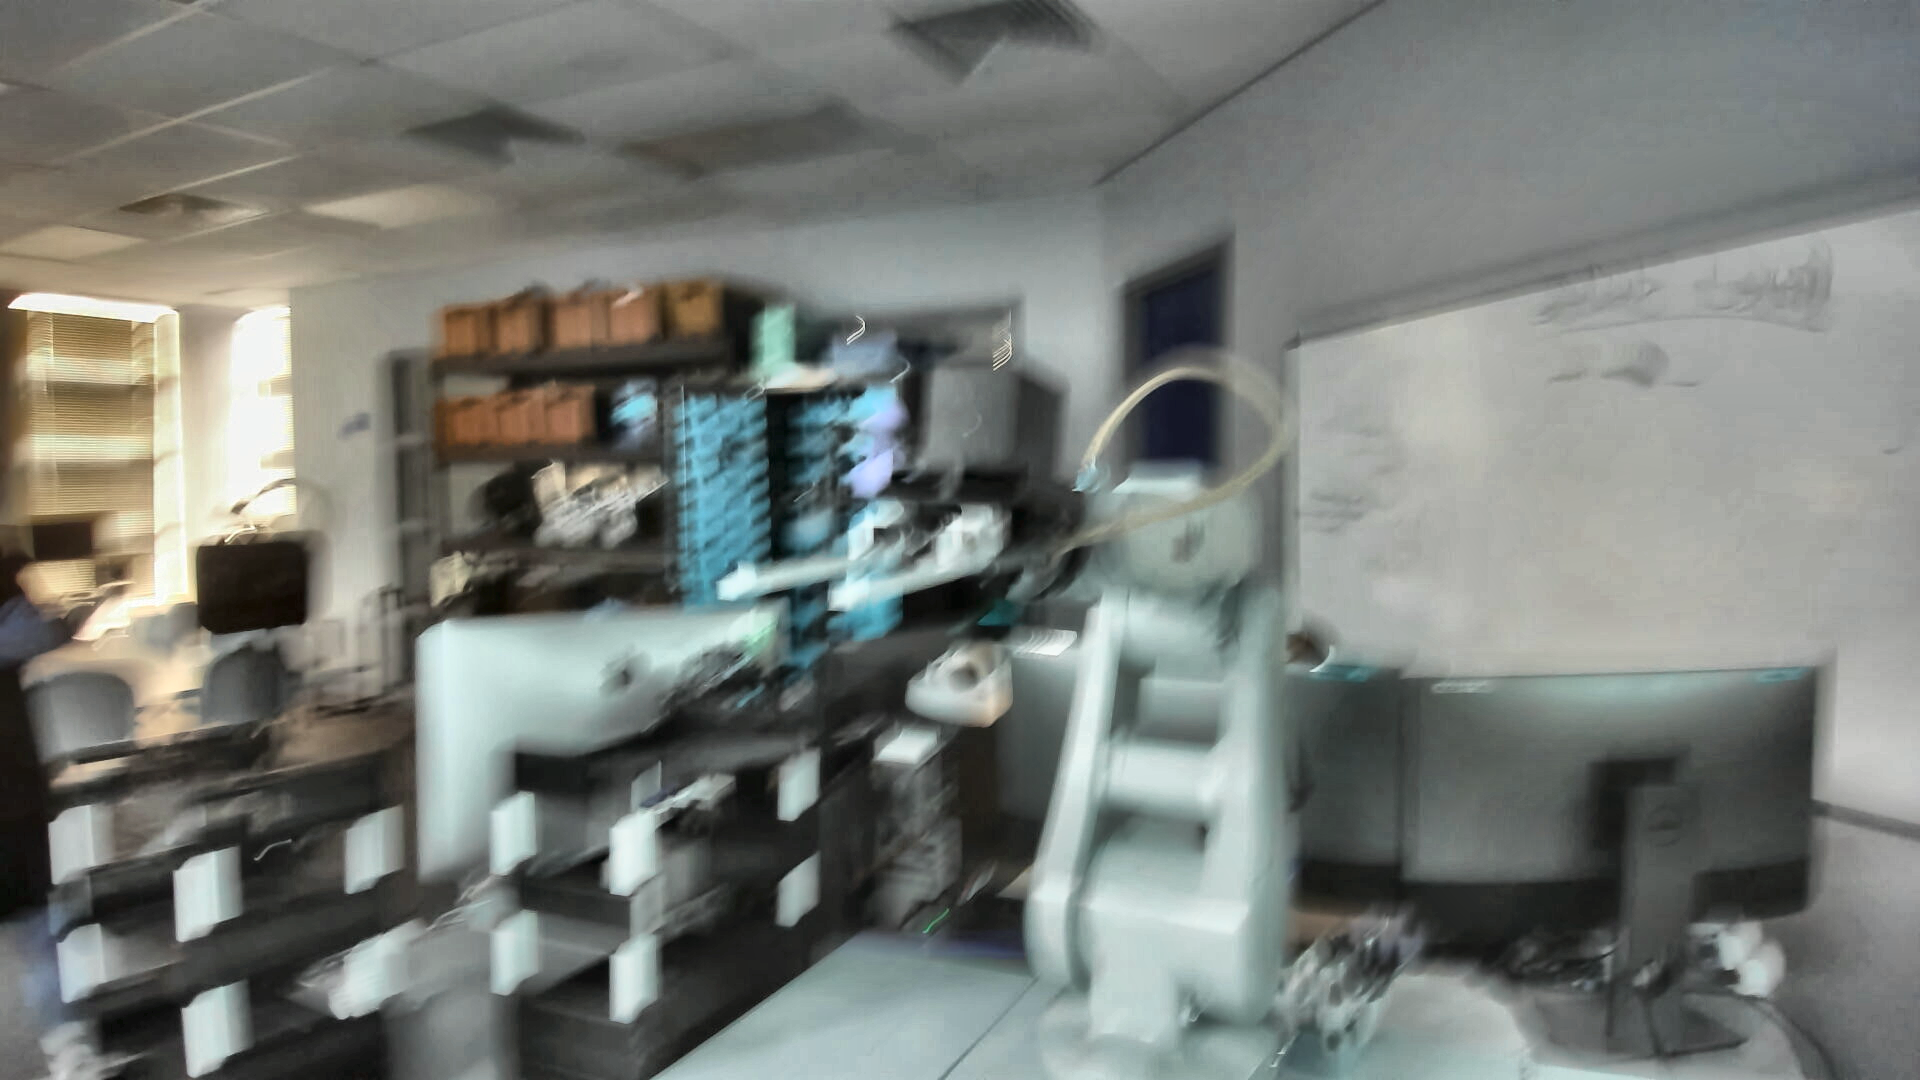black pallet: (877, 353, 1080, 516)
